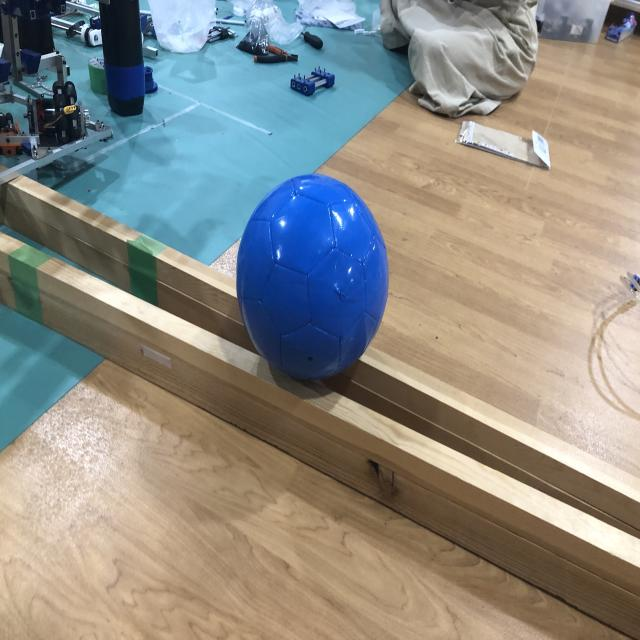blue_ball: (236, 173, 388, 378)
